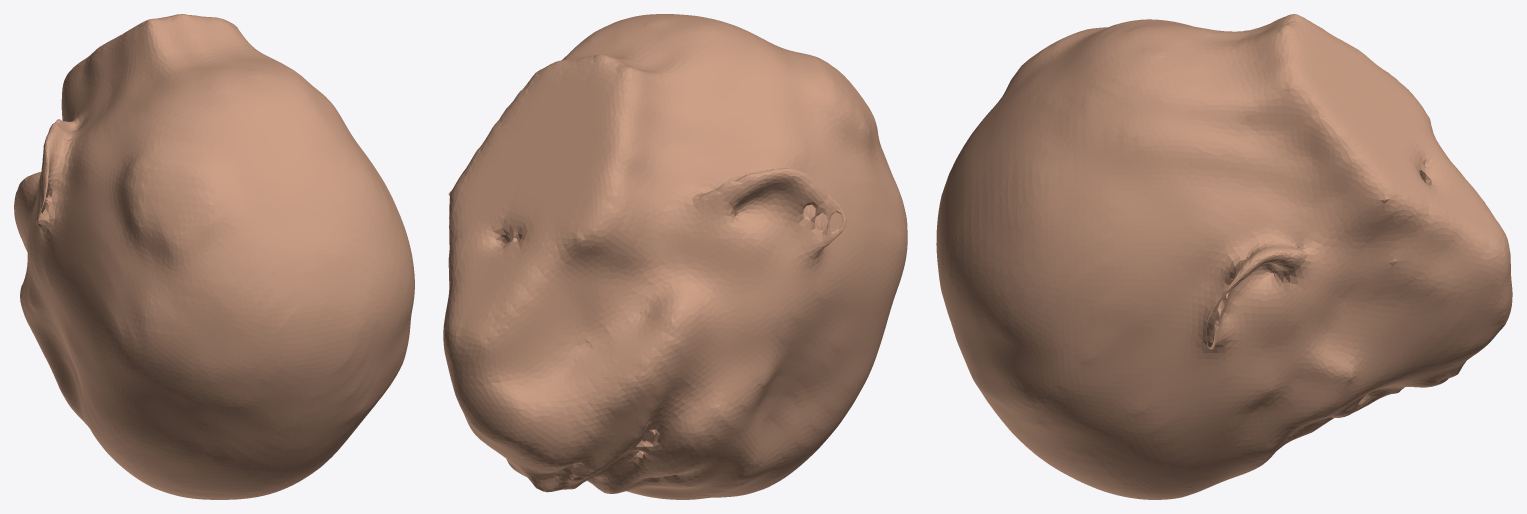
The model's file is skull_skin.glb.
The picture shows the model from 3 angles, left to right: view 1: azimuth 30°, elevation 25°; view 2: azimuth 150°, elevation 25°; view 3: azimuth 270°, elevation 25°; orthographic projection. The views are drawn at different scales.
Parts seen in each view (by area): view 1: world; view 2: world; view 3: world.
Part boxes in pixels (x1=…): world: x1=14, y1=14, x2=414, y2=499; world: x1=443, y1=14, x2=907, y2=499; world: x1=936, y1=14, x2=1512, y2=499.
Size of the model in its own units: 171 by 203 by 228.
